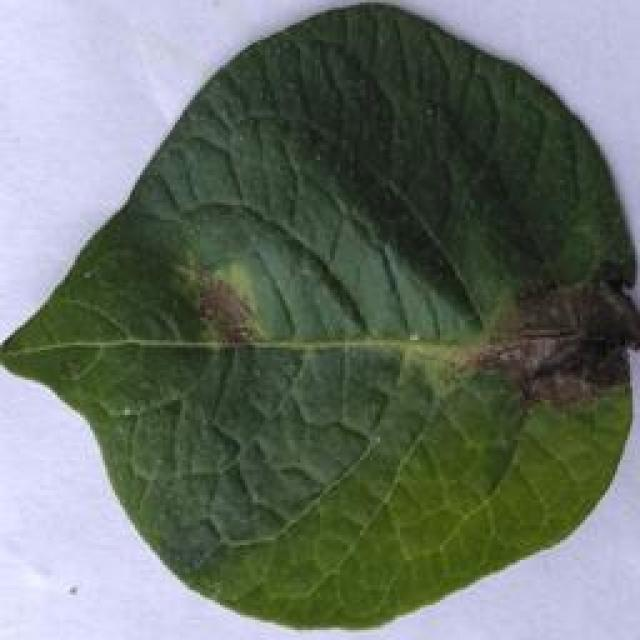Potato_Late_Blight: (4, 3, 634, 626)
